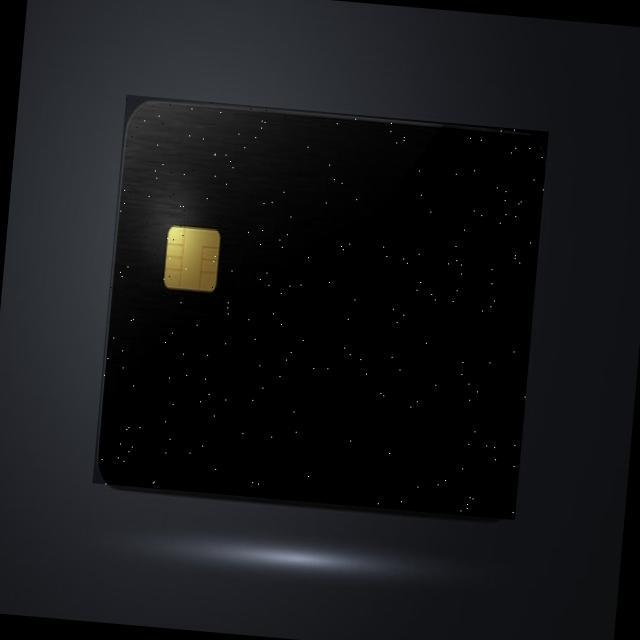payment_card: (93, 93, 549, 521)
